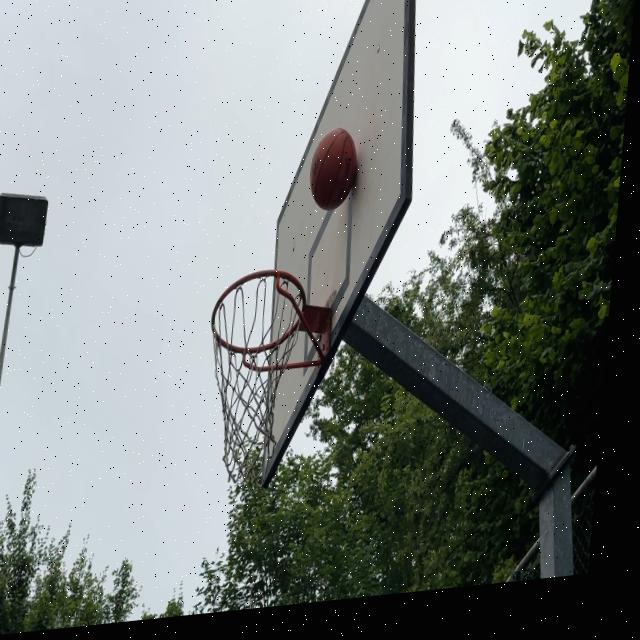rebound_hit: (308, 125, 365, 212)
